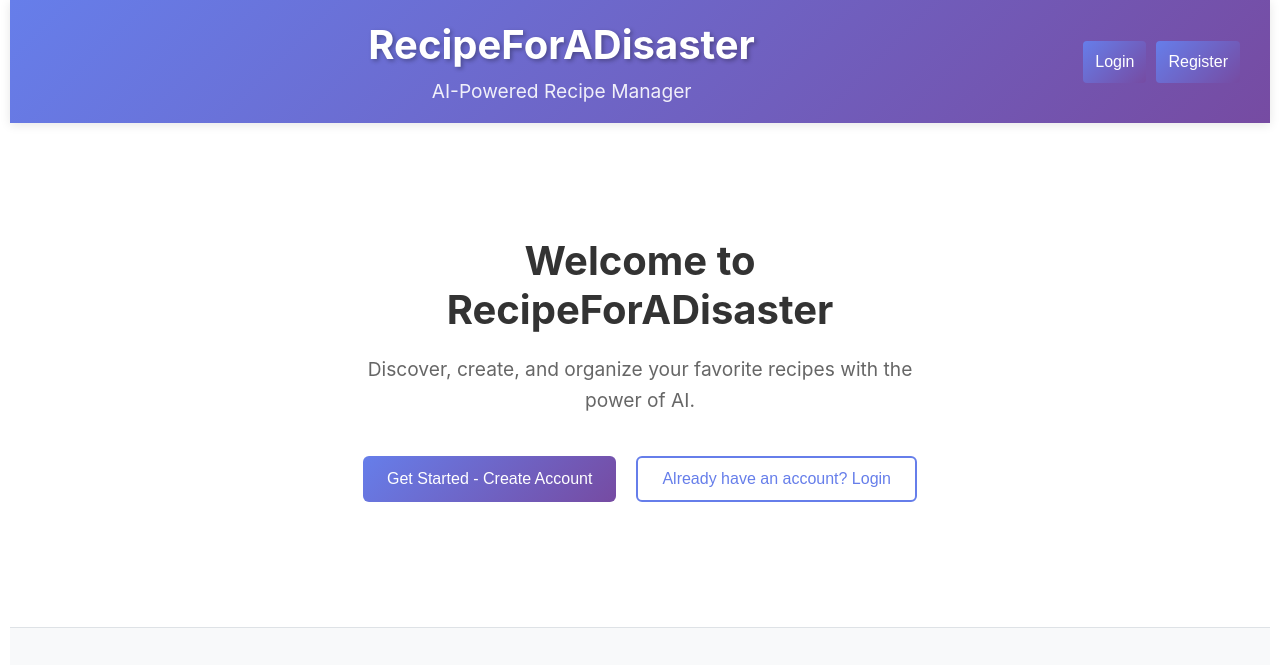
Scenario: Authentication Integration Tests › Complete Authentication Flow › allows user to login and access the application
Expected: the heading "Welcome to RecipeForADisaster" is shown, [447,236,833,334]
Click the button "Already have an account? Login" at (777,479), box [636,456,917,502]
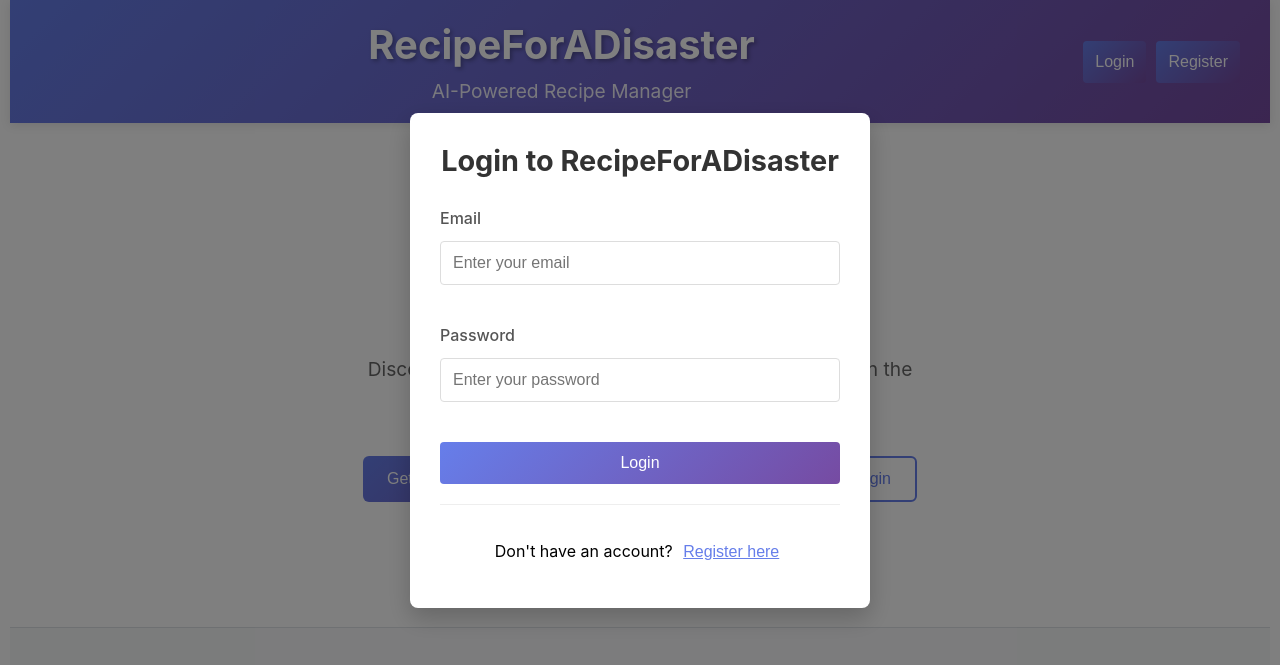
Now the heading "Login to RecipeForADisaster" is shown, box [440,142,840,178]
Type "jane@example.com" into the field labelled "Email" at (640,262), box [440,240,840,284]
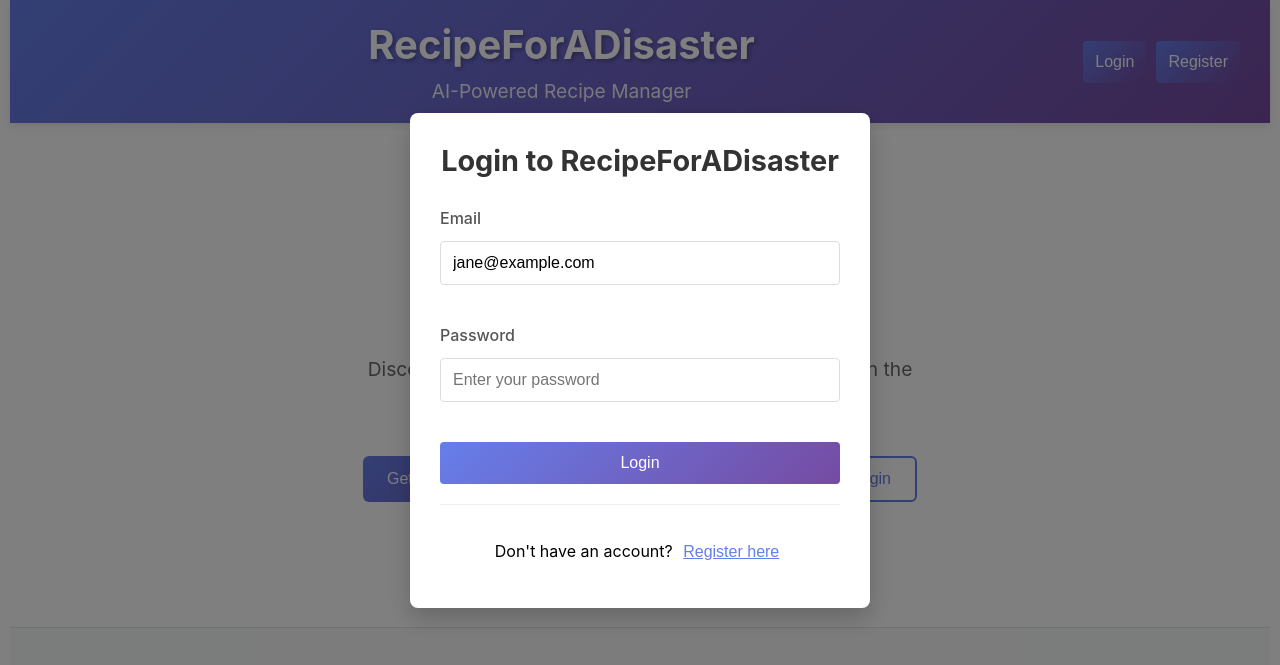
Type "password123" into the password field labelled "Password" at (640,380), box [440,358,840,402]
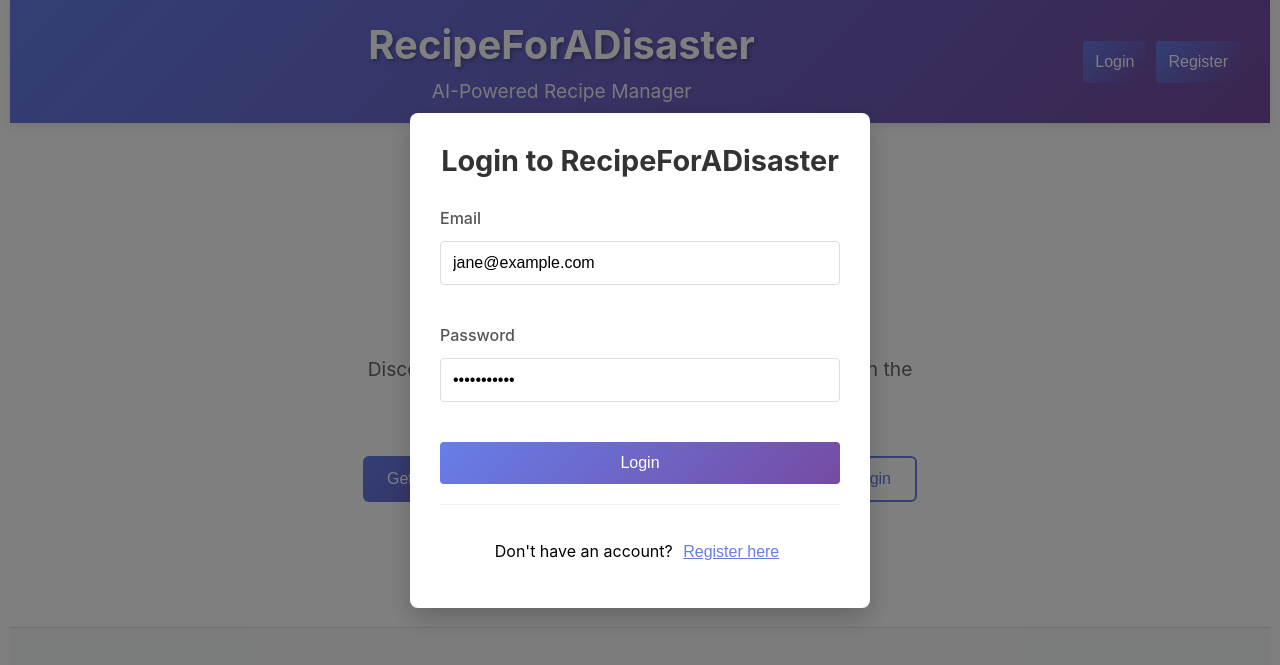
Submit the form, box [440,208,840,484]
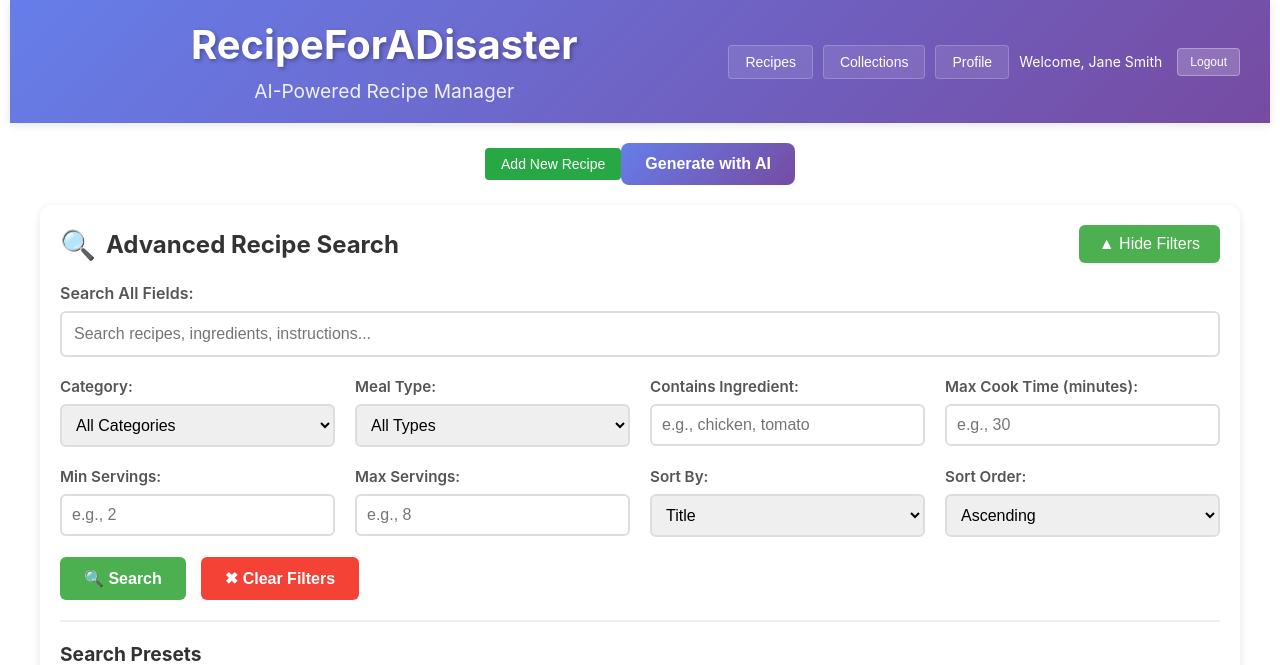
Expected: the heading "RecipeForADisaster" is shown, [191,20,578,69]
Now the text "Welcome, Jane Smith" is shown, box [1019,53,1162,70]
